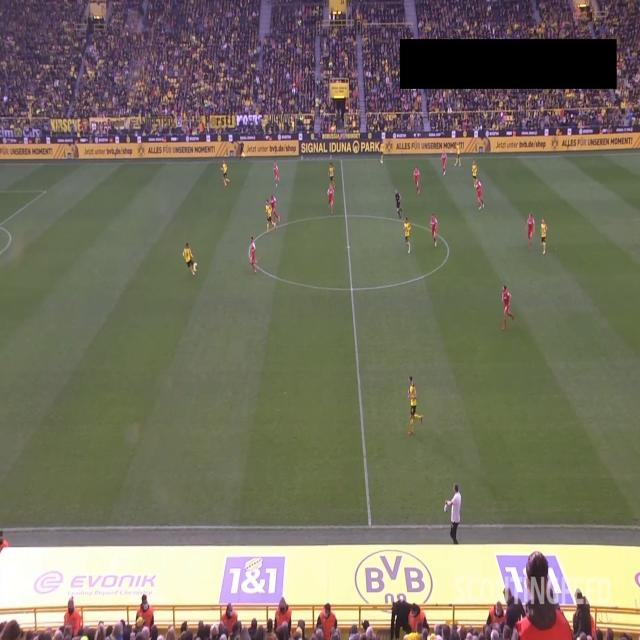ball: (194, 262, 198, 268)
